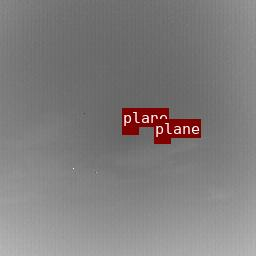plane: (122, 127, 138, 134), (154, 138, 170, 143)
